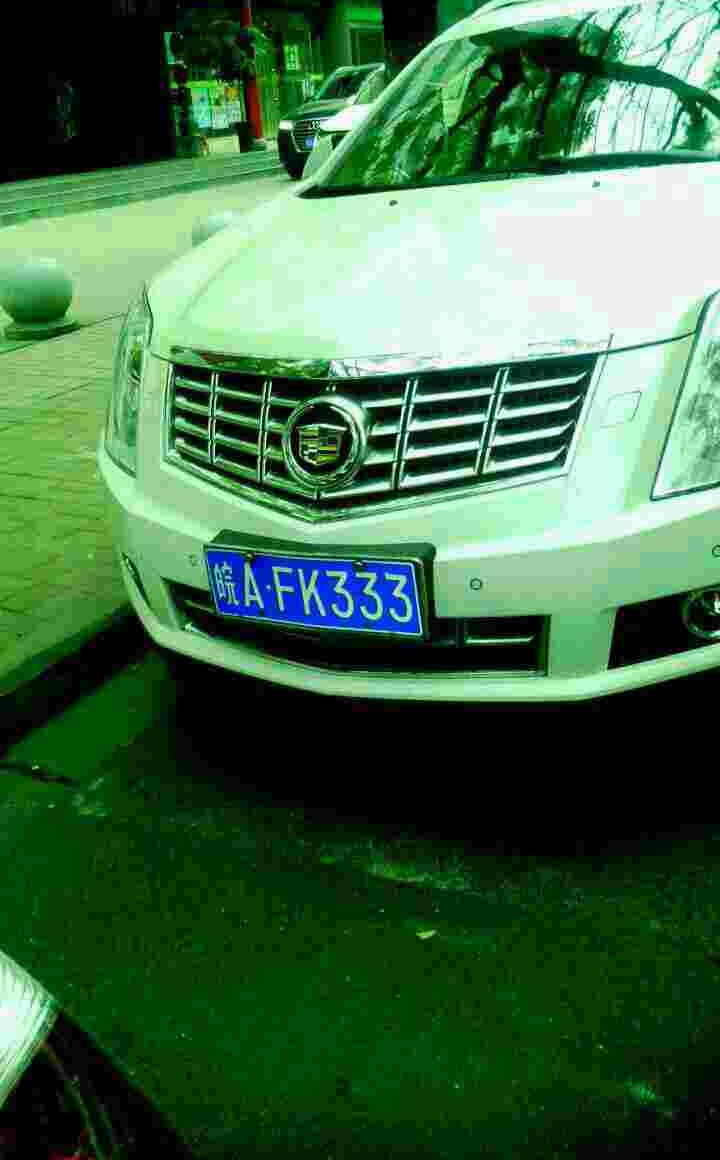license_plate: (202, 549, 433, 642)
